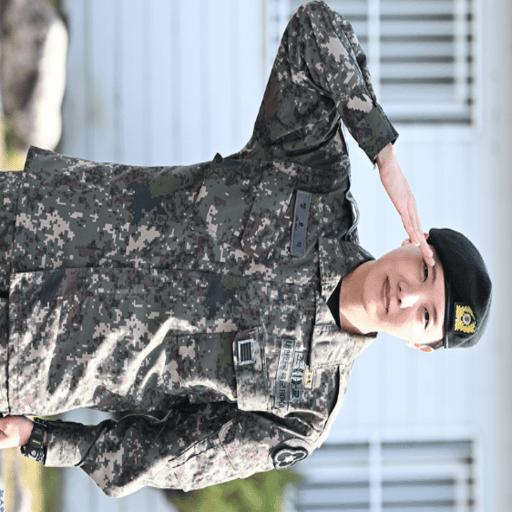korea army: (0, 0, 492, 502)
